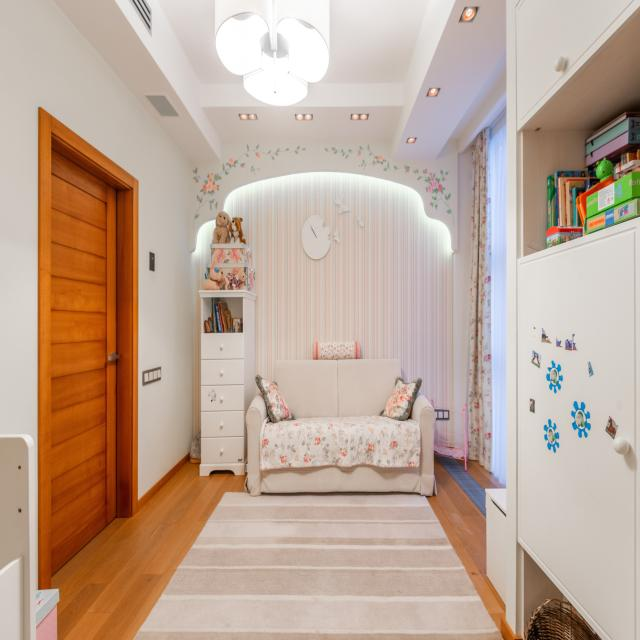floor: (38, 452, 248, 640), (425, 455, 506, 632), (466, 460, 506, 490), (456, 459, 465, 469)
wall: (189, 140, 458, 253), (454, 146, 471, 406), (455, 412, 464, 434), (454, 404, 463, 414), (455, 433, 464, 441), (455, 440, 464, 447)
